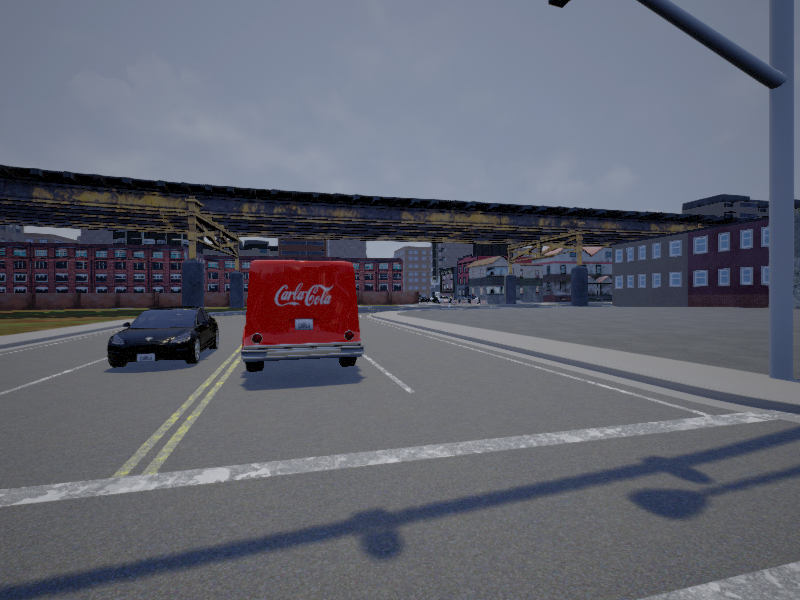Benign: (241, 259, 365, 370), (107, 309, 221, 365)
